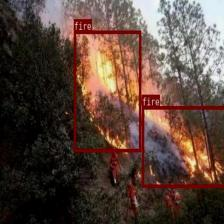fire: (74, 30, 140, 152), (142, 105, 224, 188)
